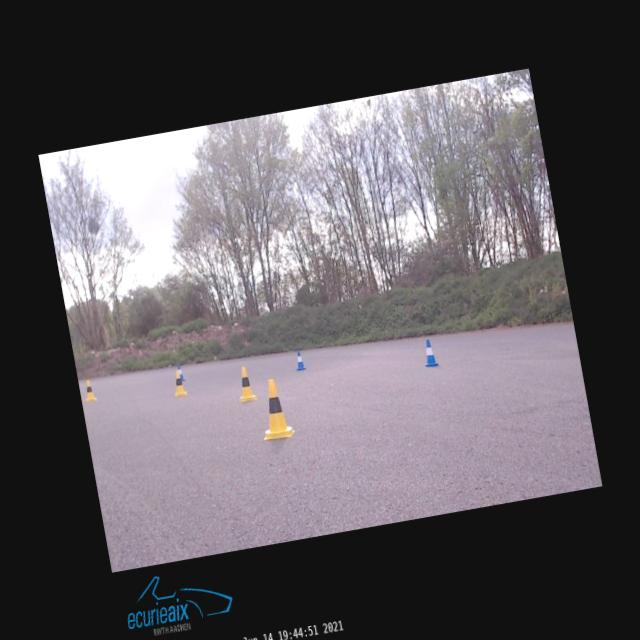blue_cone: (421, 338, 438, 368), (292, 349, 306, 370), (178, 363, 185, 381)
yellow_cone: (253, 376, 294, 441), (235, 366, 258, 402), (170, 370, 187, 396), (82, 378, 96, 402)
